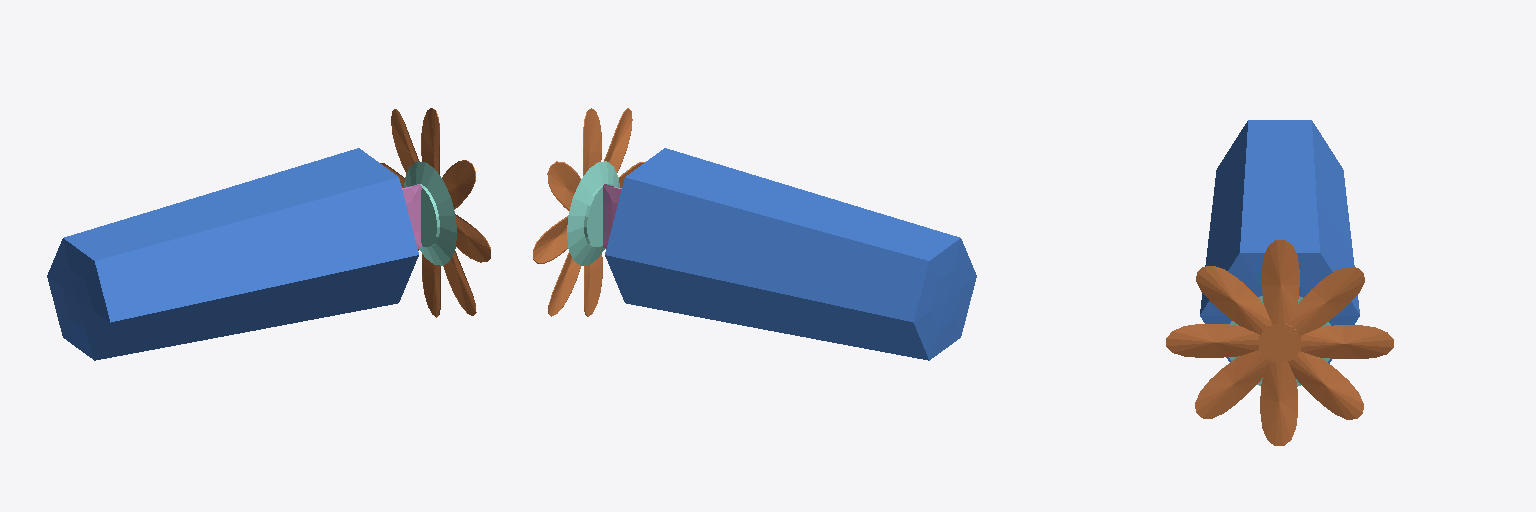
The model's file is PrismaticEnemy.obj.
3 renders of one model, left to right at view 1: azimuth 30°, elevation 25°; view 2: azimuth 150°, elevation 25°; view 3: azimuth 270°, elevation 25°, orthographic.
Parts seen in each view (by area): view 1: Main_Body, Engine, Rotor_Blades01, Rotor_Blades02, Rotor_Blades00, Rotor_Blades03, Rotor_Blades07, Rotor_Blades04, Fin; view 2: Main_Body, Engine, Rotor_Blades07, Rotor_Blades06, Rotor_Blades00, Rotor_Blades05, Rotor_Blades01, Rotor_Blades04, Fin; view 3: Main_Body, Rotor_Blades05, Rotor_Blades00, Rotor_Blades03, Rotor_Blades07, Rotor_Blades06, Rotor_Blades02, Rotor_Blades04, Rotor_Blades01, Center_Rotor.
Boxes of the visible parts, x1=… form: Main_Body: x1=47, y1=148, x2=418, y2=360; Engine: x1=404, y1=161, x2=456, y2=265; Rotor_Blades01: x1=442, y1=160, x2=475, y2=209; Rotor_Blades02: x1=455, y1=214, x2=490, y2=262; Rotor_Blades00: x1=421, y1=108, x2=439, y2=174; Rotor_Blades03: x1=443, y1=251, x2=476, y2=315; Rotor_Blades07: x1=391, y1=109, x2=419, y2=174; Rotor_Blades04: x1=422, y1=254, x2=440, y2=317; Fin: x1=402, y1=184, x2=421, y2=248; Main_Body: x1=605, y1=148, x2=976, y2=360; Engine: x1=567, y1=161, x2=619, y2=265; Rotor_Blades07: x1=547, y1=161, x2=580, y2=210; Rotor_Blades06: x1=533, y1=216, x2=567, y2=263; Rotor_Blades00: x1=583, y1=108, x2=601, y2=175; Rotor_Blades05: x1=548, y1=252, x2=580, y2=316; Rotor_Blades01: x1=604, y1=108, x2=632, y2=172; Rotor_Blades04: x1=584, y1=254, x2=602, y2=316; Fin: x1=603, y1=184, x2=621, y2=248; Main_Body: x1=1200, y1=120, x2=1359, y2=363; Rotor_Blades05: x1=1288, y1=351, x2=1363, y2=419; Rotor_Blades00: x1=1262, y1=240, x2=1299, y2=324; Rotor_Blades03: x1=1195, y1=350, x2=1270, y2=418; Rotor_Blades07: x1=1289, y1=267, x2=1364, y2=335; Rotor_Blades06: x1=1300, y1=325, x2=1393, y2=358; Rotor_Blades02: x1=1166, y1=324, x2=1259, y2=357; Rotor_Blades04: x1=1260, y1=361, x2=1297, y2=445; Rotor_Blades01: x1=1196, y1=266, x2=1271, y2=333; Center_Rotor: x1=1258, y1=324, x2=1301, y2=362.
Size of the model in its own units: 105 by 57.83 by 57.83.